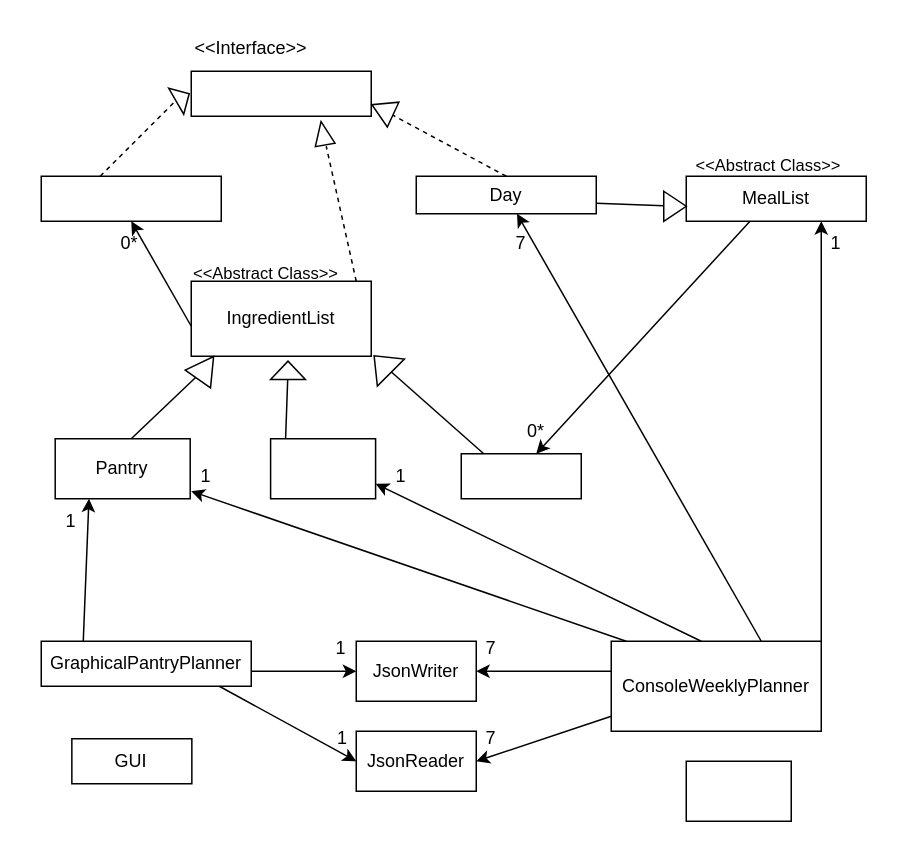
Some shapes in this 906 by 848 pixel diagram are drawn without their labels. The centre of each missing label's shape, as x and y in pixels:
"ConsoleUI" goes at point 738,790.
"Ingredient" goes at point 130,198.
"Meal" goes at point 520,475.
"ShoppingList" goes at point 322,468.
"Writable" goes at point 280,93.
